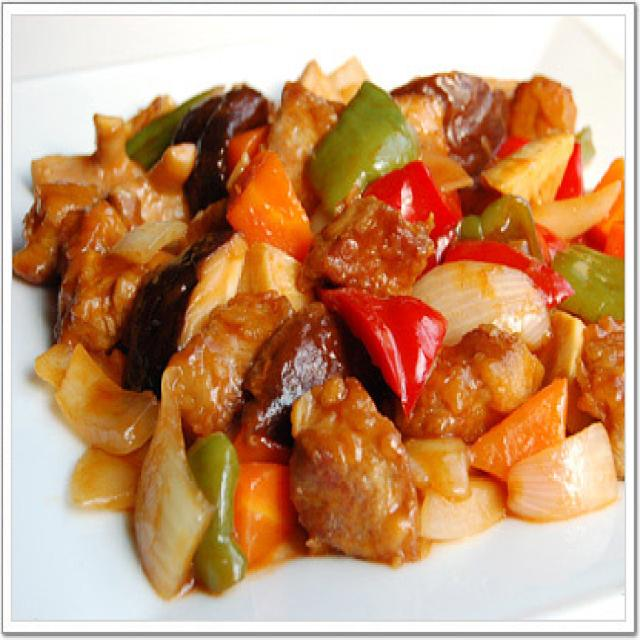猪肉菜式: (4, 46, 624, 594)
